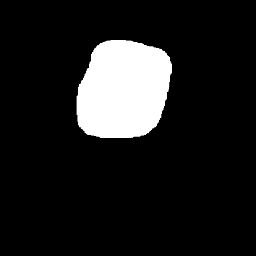mass: (84, 44, 162, 132)
